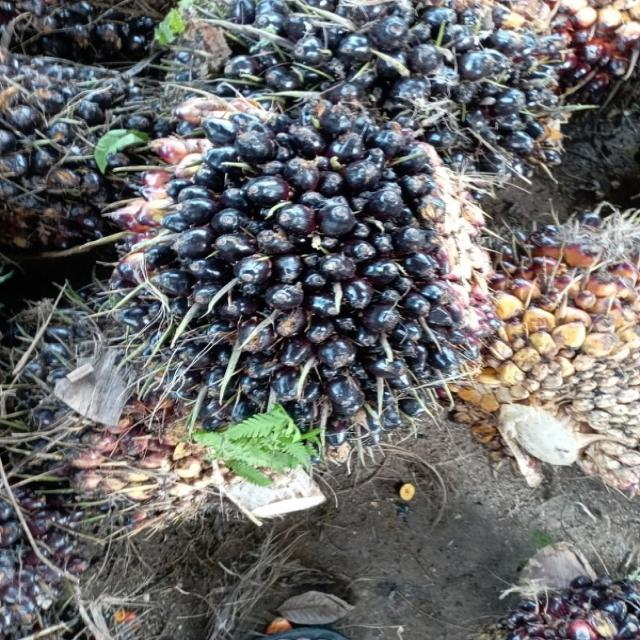fraksi 00: (100, 90, 484, 453), (185, 0, 574, 181), (0, 36, 155, 242)
